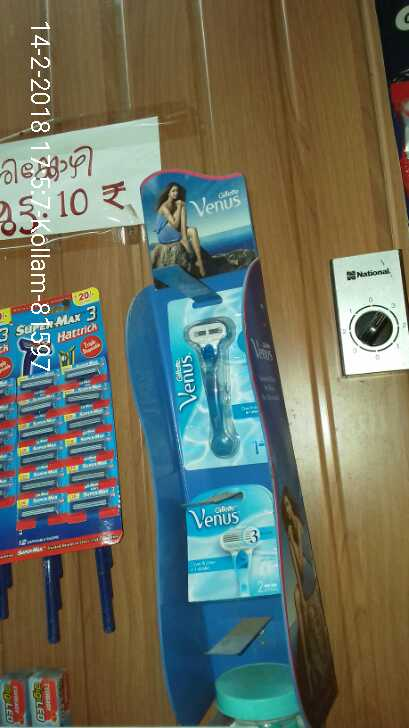venus: (155, 295, 265, 473), (187, 481, 288, 601)
